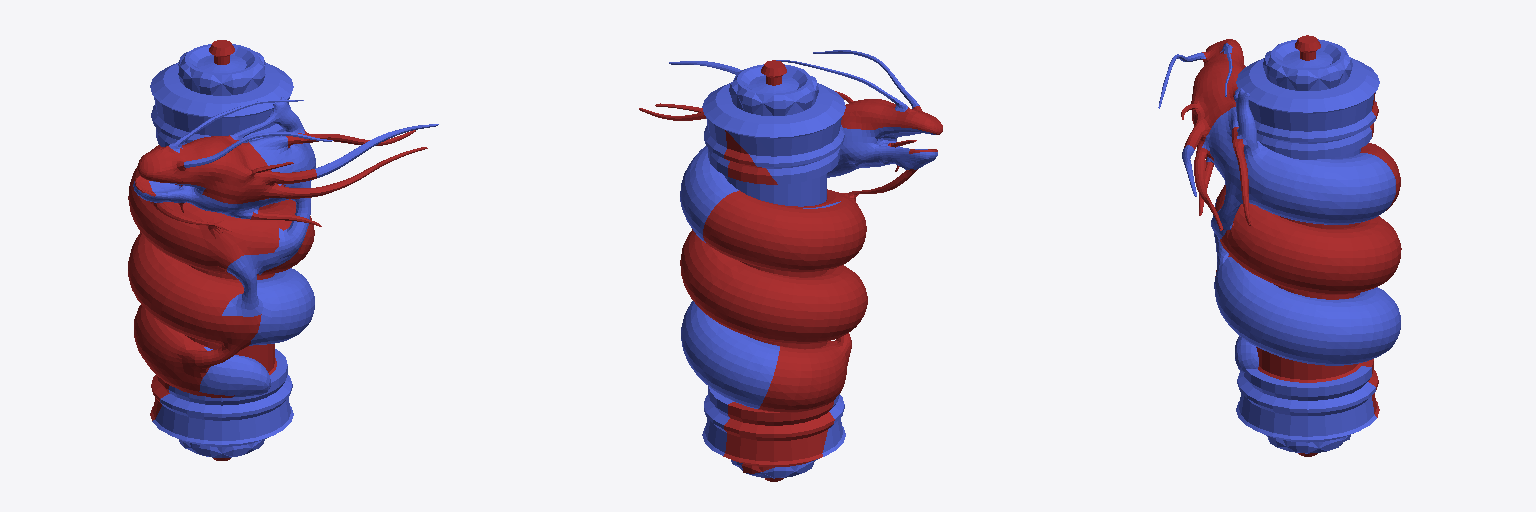
3 renders of one model, left to right at view 1: azimuth 30°, elevation 25°; view 2: azimuth 150°, elevation 25°; view 3: azimuth 270°, elevation 25°, orthographic.
Parts seen in each view (by area): view 1: Drugon.001_default, Stoyka_default; view 2: Drugon.001_default, Stoyka_default; view 3: Drugon.001_default, Stoyka_default.
Boxes of the visible parts, x1,y1,x2,y2 form: Drugon.001_default: [128, 97, 438, 397]; Stoyka_default: [150, 40, 293, 460]; Drugon.001_default: [639, 50, 942, 412]; Stoyka_default: [702, 60, 845, 481]; Drugon.001_default: [1158, 39, 1401, 373]; Stoyka_default: [1236, 35, 1379, 456].
Bounding box in the file's own units: 1.2 × 1.65 × 0.8775.
1 materials, 1 textured.